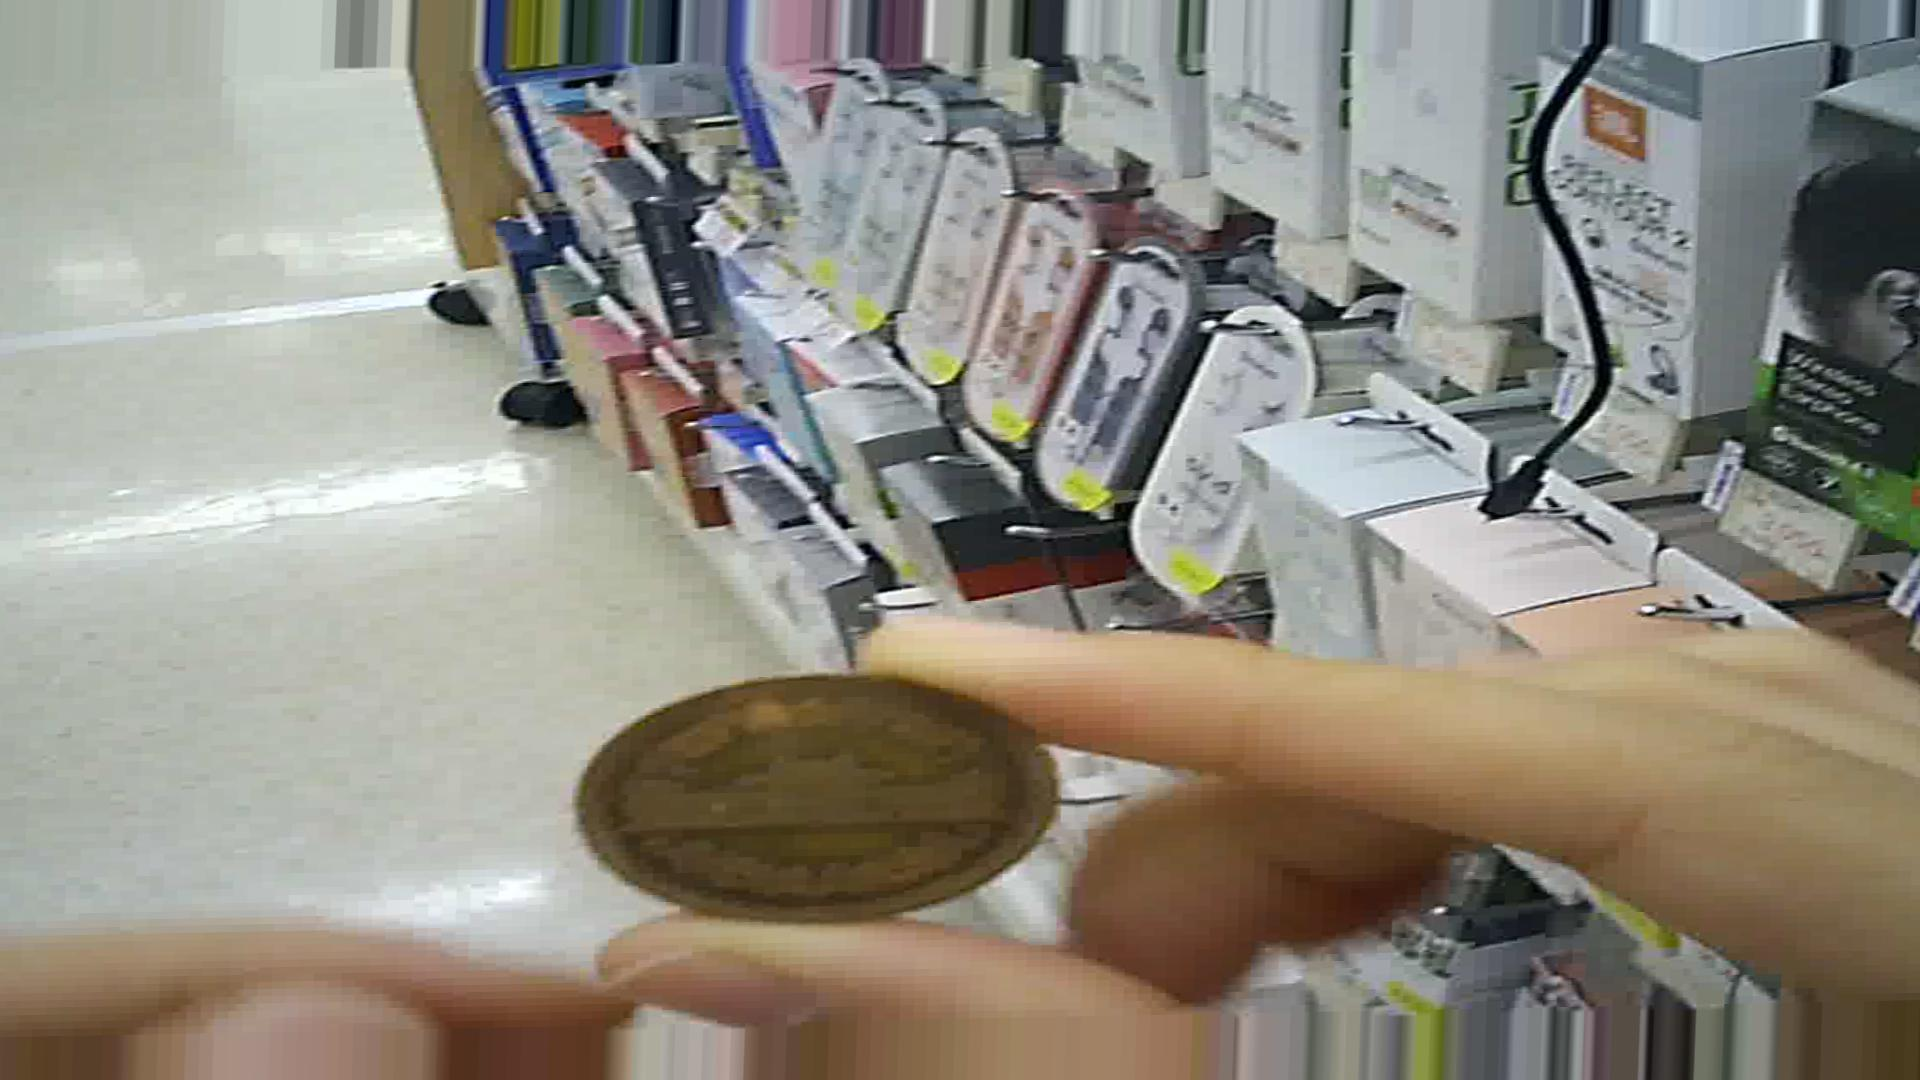10 Yen: (556, 665, 1062, 926)
